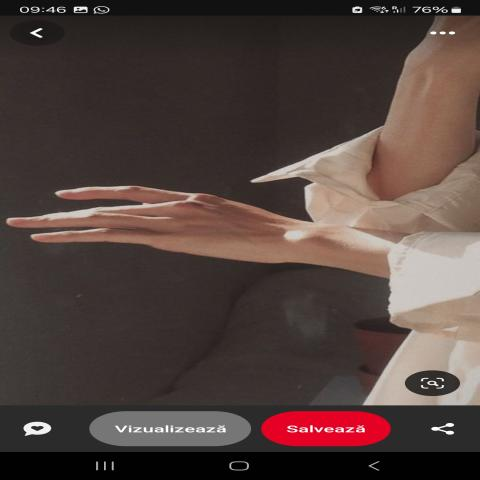hands: (14, 162, 384, 312)
